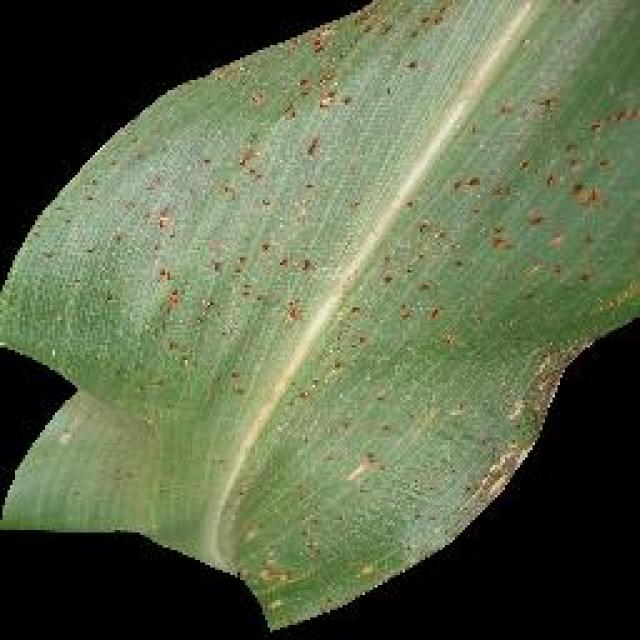Corn Common Rust: (250, 127, 558, 605)
